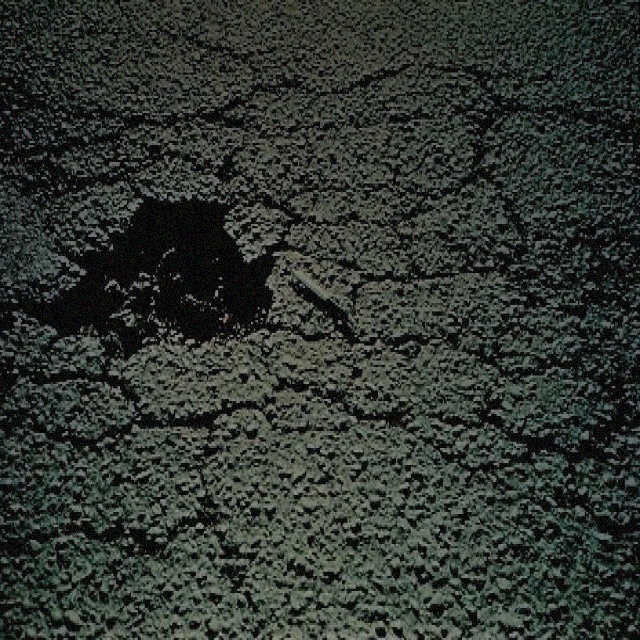pothole: (17, 183, 277, 367)
